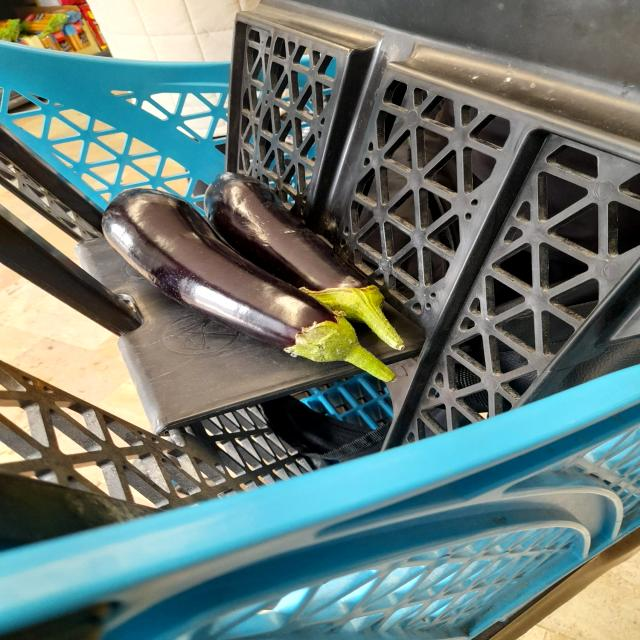eggplant: (91, 185, 404, 386), (208, 165, 412, 358)
